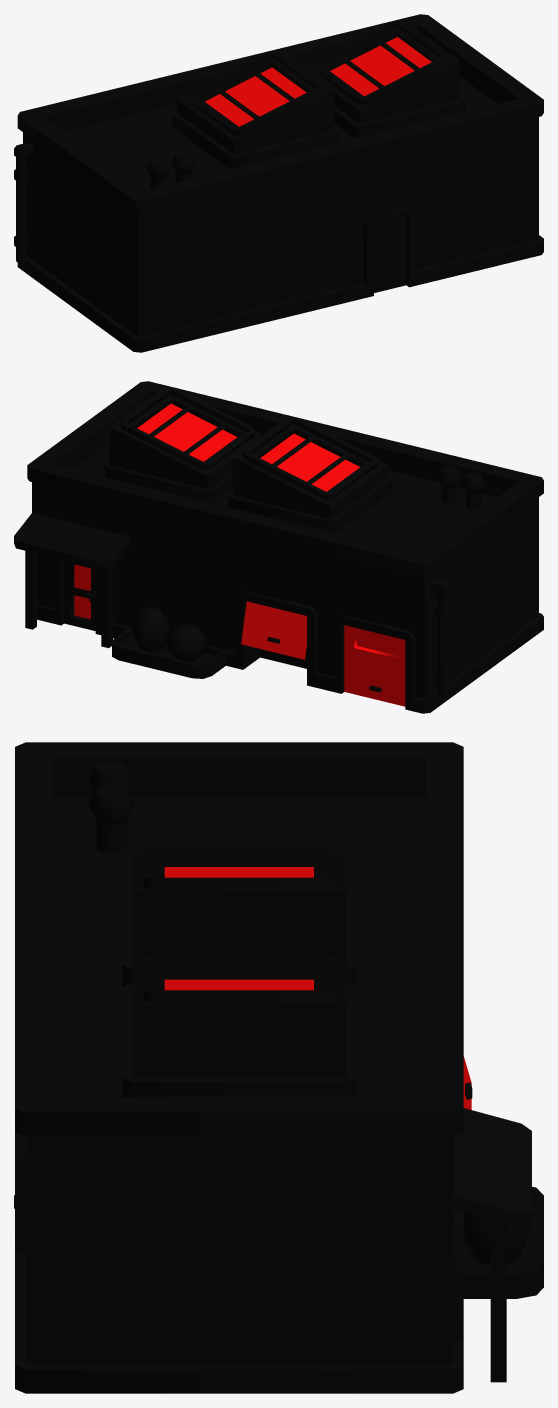
The model's file is building-p.glb.
The picture shows the model from 3 angles, top to bottom: view 1: azimuth 30°, elevation 25°; view 2: azimuth 150°, elevation 25°; view 3: azimuth 270°, elevation 25°; orthographic projection. The views are drawn at different scales.
Visible parts, largest first — view 1: building-p; view 2: building-p; view 3: building-p.
Boxes of the visible parts, box(x1,y1,x2,y2) form: building-p: box(14, 14, 543, 352); building-p: box(14, 381, 543, 713); building-p: box(14, 742, 543, 1393).
Size of the model in its own units: 1.68 by 0.7147 by 0.992.
1 material, 1 textured.
